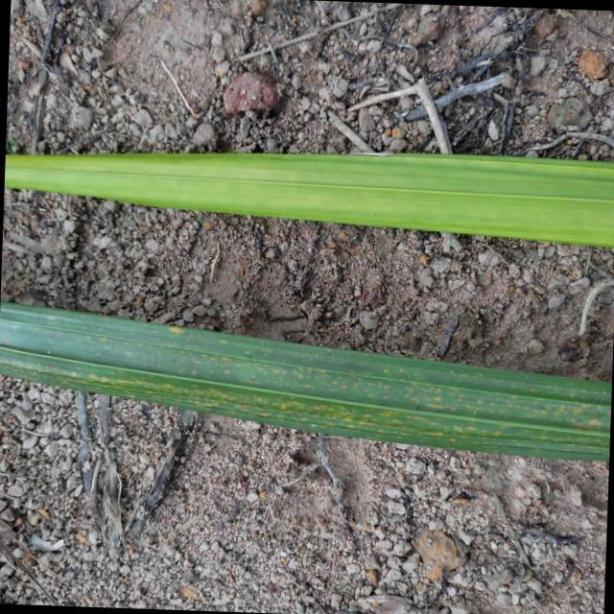nitrogen: (7, 127, 614, 254)
